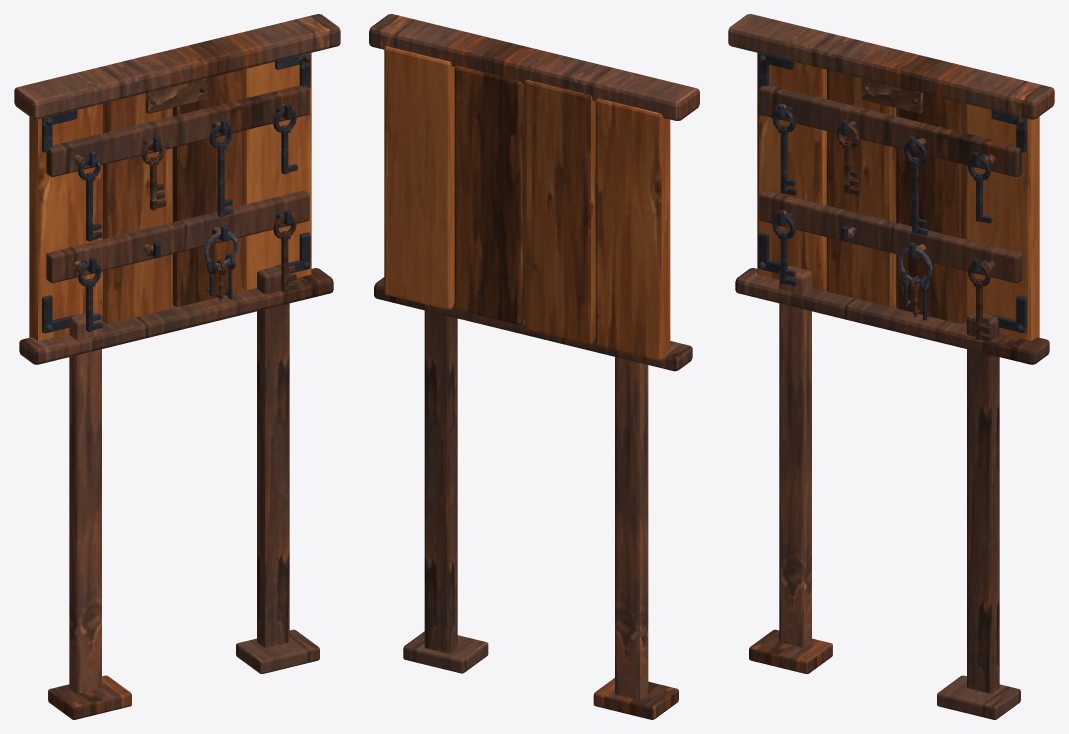
File: mg_key_board.glb
3 renders of one model, left to right at view 1: azimuth 30°, elevation 25°; view 2: azimuth 150°, elevation 25°; view 3: azimuth 330°, elevation 25°, orthographic.
Visible parts, largest first — view 1: model; view 2: model; view 3: model.
Part boxes in pixels (x1=…): model: x1=14, y1=14, x2=340, y2=719; model: x1=369, y1=14, x2=699, y2=719; model: x1=728, y1=14, x2=1054, y2=719.
Size of the model in its own units: 0.82 by 1.58 by 0.145.
Materials: 9 (9 with a texture image).
